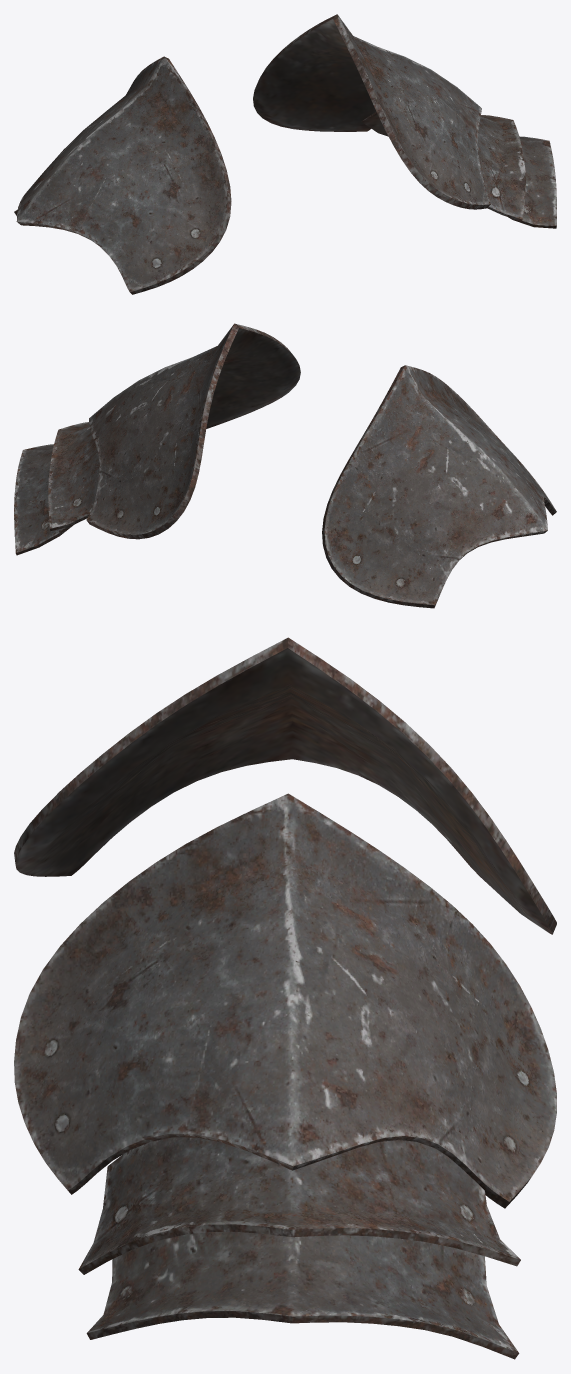
The model's file is sk_gb_uruk_pauldron_heavy_c.fbx.
The picture shows the model from 3 angles, top to bottom: view 1: azimuth 30°, elevation 25°; view 2: azimuth 150°, elevation 25°; view 3: azimuth 270°, elevation 25°; orthographic projection. The views are drawn at different scales.
Visible parts, largest first — view 1: sk_gb_uruk_pauldron_heavy_c; view 2: sk_gb_uruk_pauldron_heavy_c; view 3: sk_gb_uruk_pauldron_heavy_c.
Boxes of the visible parts, <box> form: sk_gb_uruk_pauldron_heavy_c: <box>14,14,556,294</box>; sk_gb_uruk_pauldron_heavy_c: <box>14,323,556,608</box>; sk_gb_uruk_pauldron_heavy_c: <box>14,637,556,1359</box>.
Size of the model in its own units: 0.7108 by 0.3402 by 0.2922.
Materials: 1 (1 with a texture image).
